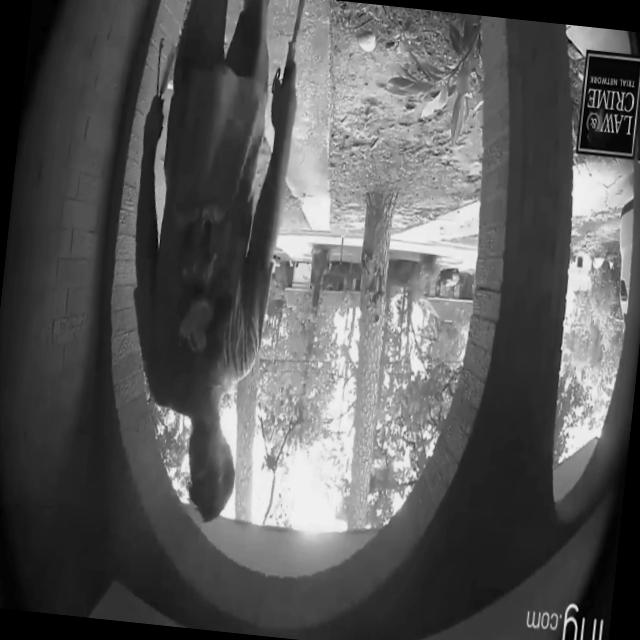weapon: (94, 0, 313, 534)
